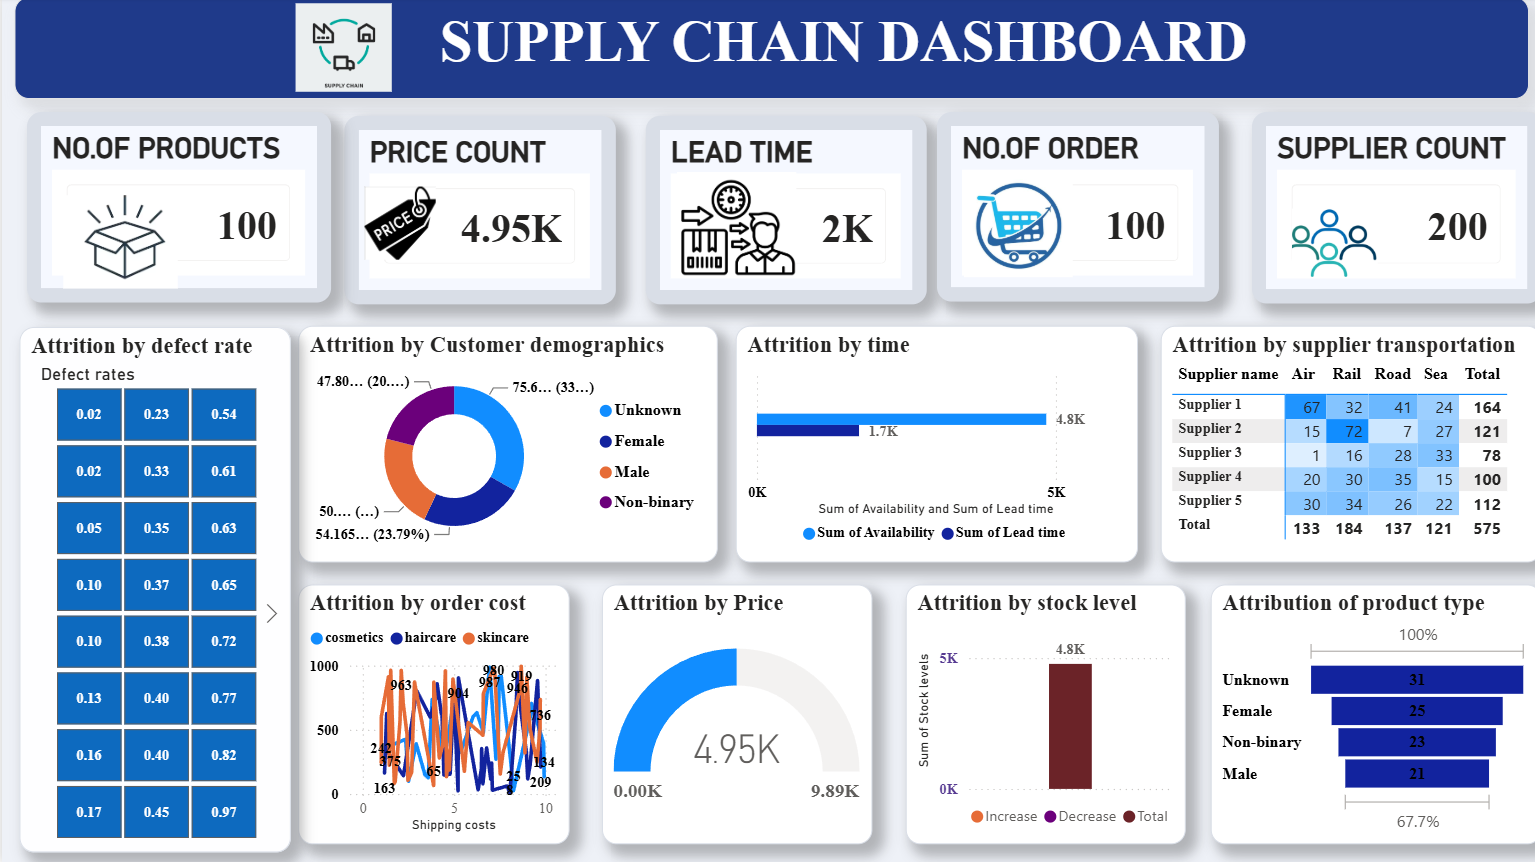

This screenshot's page, from the dashboard's own definition file:
{"tool":"powerbi","page":{"name":"Page 1","canvas":[1280,720],"ordinal":0},"visuals":[{"type":"textbox","box":[10,0,1259,85],"z":0},{"type":"image","box":[128.7,5.5,310.8,73.9],"z":1000},{"type":"cardVisual","title":"PRICE COUNT","fields":{"Data":["Sum(supply_chain_data.Price)"]},"box":[285.3,98.7,225.8,156.8],"z":2000},{"type":"cardVisual","title":"LEAD TIME","fields":{"Data":["Sum(supply_chain_data.Lead times)"]},"box":[535.4,98.7,233.9,156.8],"z":3000},{"type":"cardVisual","title":"NO.OF PRODUCTS","fields":{"Data":["CountNonNull(supply_chain_data.Number of products sold)"]},"box":[20.3,96,252.8,158.2],"z":4000},{"type":"cardVisual","title":"SUPPLIER COUNT","fields":{"Data":["Sum(supply_chain_data.SUPPLIERCOUNT)"]},"box":[1039.6,96,240.6,159.5],"z":5000},{"type":"cardVisual","title":"NO.OF ORDER","fields":{"Data":["CountNonNull(supply_chain_data.Order quantities)"]},"box":[777.6,95.7,234.5,157.7],"z":6000},{"type":"donutChart","title":"Attrition by Customer demographics","fields":{"Category":["supply_chain_data.Customer demographics"],"Y":["Sum(supply_chain_data.Defect rates)"]},"box":[246.6,273.6,349,196.8],"z":7000},{"type":"clusteredBarChart","title":"Attrition by time","fields":{"Y":["Sum(supply_chain_data.Availability)","Sum(supply_chain_data.Lead time)"]},"box":[610.5,273.6,334.2,196.8],"z":8000},{"type":"pivotTable","title":"Attrition by supplier transportation","fields":{"Rows":["supply_chain_data.Supplier name"],"Columns":["supply_chain_data.Transportation modes"],"Values":["Sum(supply_chain_data.Shipping times)"]},"box":[963.6,273.6,316.7,196.8],"z":9000},{"type":"lineChart","title":"Attrition by order cost","fields":{"Category":["supply_chain_data.Shipping costs"],"Series":["supply_chain_data.Product type"],"Y":["Sum(supply_chain_data.Number of products sold)"]},"box":[246.5,488.8,225.9,216.3],"z":10000},{"type":"gauge","title":"Attrition by Price","fields":{"Y":["Sum(supply_chain_data.Price)"]},"box":[498.4,488.8,224.6,216.3],"z":11000},{"type":"waterfallChart","title":"Attrition by stock level","fields":{"Y":["Sum(supply_chain_data.Stock levels)"]},"box":[751.7,488.8,232.8,216.3],"z":12000},{"type":"funnel","title":"Attribution of product type","fields":{"Category":["supply_chain_data.Customer demographics"],"Y":["CountNonNull(supply_chain_data.Product type)"]},"box":[1005.1,488.8,275.2,216.3],"z":13000},{"type":"slicer","title":"Attrition by defect rate","fields":{"Values":["supply_chain_data.Defect rates"]},"box":[15.1,273.9,225.9,436.8],"z":14000},{"type":"image","box":[301.2,121.9,58.9,132.8],"z":15000},{"type":"image","box":[529.9,145.1,161.6,87.6],"z":16000},{"type":"image","box":[795.6,146.5,100,86.3],"z":17000},{"type":"image","box":[51.2,122.1,95.3,164],"z":18000},{"type":"image","box":[1072.1,135.6,71.2,138.3],"z":19000}]}

Visuals, with their boxes in screenshot pixels (x1, y1, x2, y2), scaled from the page's 1280x720 canvas onto the 1535x862 screenshot:
textbox: {"left": 12, "top": 0, "right": 1522, "bottom": 102}
image: {"left": 154, "top": 7, "right": 527, "bottom": 95}
"PRICE COUNT" cardVisual: {"left": 342, "top": 118, "right": 613, "bottom": 306}
"LEAD TIME" cardVisual: {"left": 642, "top": 118, "right": 923, "bottom": 306}
"NO.OF PRODUCTS" cardVisual: {"left": 24, "top": 115, "right": 328, "bottom": 304}
"SUPPLIER COUNT" cardVisual: {"left": 1247, "top": 115, "right": 1534, "bottom": 306}
"NO.OF ORDER" cardVisual: {"left": 933, "top": 115, "right": 1214, "bottom": 303}
"Attrition by Customer demographics" donutChart: {"left": 296, "top": 328, "right": 714, "bottom": 563}
"Attrition by time" clusteredBarChart: {"left": 732, "top": 328, "right": 1133, "bottom": 563}
"Attrition by supplier transportation" pivotTable: {"left": 1156, "top": 328, "right": 1534, "bottom": 563}
"Attrition by order cost" lineChart: {"left": 296, "top": 585, "right": 567, "bottom": 844}
"Attrition by Price" gauge: {"left": 598, "top": 585, "right": 867, "bottom": 844}
"Attrition by stock level" waterfallChart: {"left": 901, "top": 585, "right": 1181, "bottom": 844}
"Attribution of product type" funnel: {"left": 1205, "top": 585, "right": 1534, "bottom": 844}
"Attrition by defect rate" slicer: {"left": 18, "top": 328, "right": 289, "bottom": 851}
image: {"left": 361, "top": 146, "right": 432, "bottom": 305}
image: {"left": 635, "top": 174, "right": 829, "bottom": 279}
image: {"left": 954, "top": 175, "right": 1074, "bottom": 279}
image: {"left": 61, "top": 146, "right": 176, "bottom": 343}
image: {"left": 1286, "top": 162, "right": 1371, "bottom": 328}
